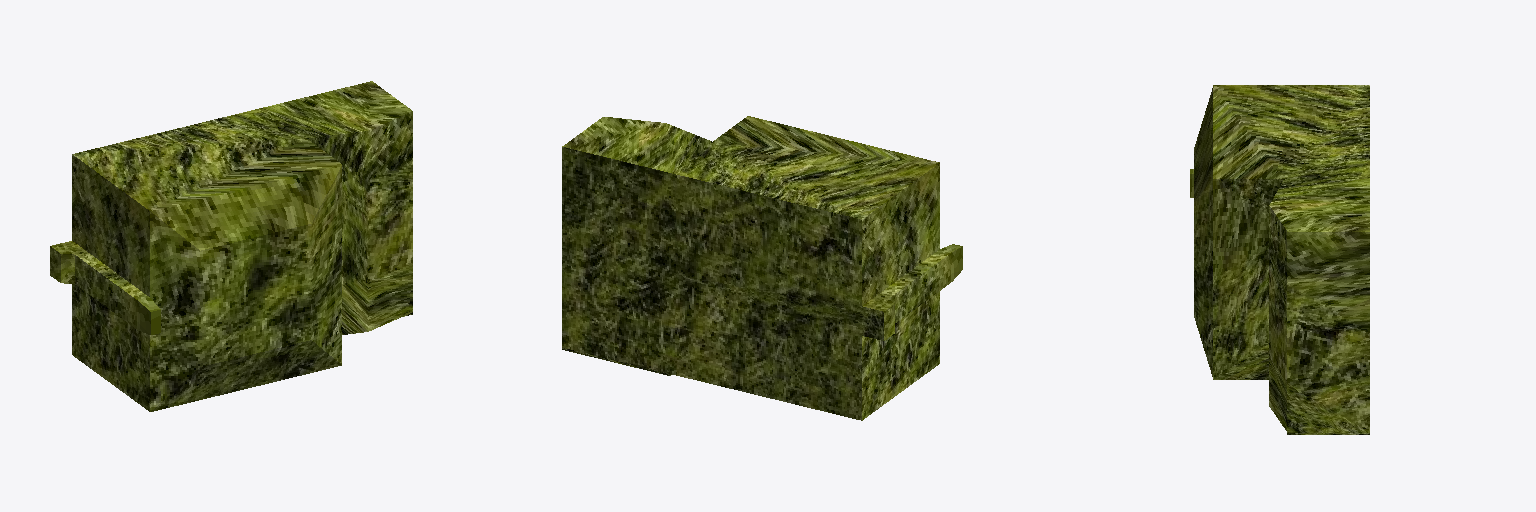
The picture shows the model from 3 angles: view 1: azimuth 30°, elevation 25°; view 2: azimuth 150°, elevation 25°; view 3: azimuth 270°, elevation 25°; orthographic projection.
Bounding box in the file's own units: 3.35 × 2.05 × 1.62.
Materials: 1 (1 with a texture image).